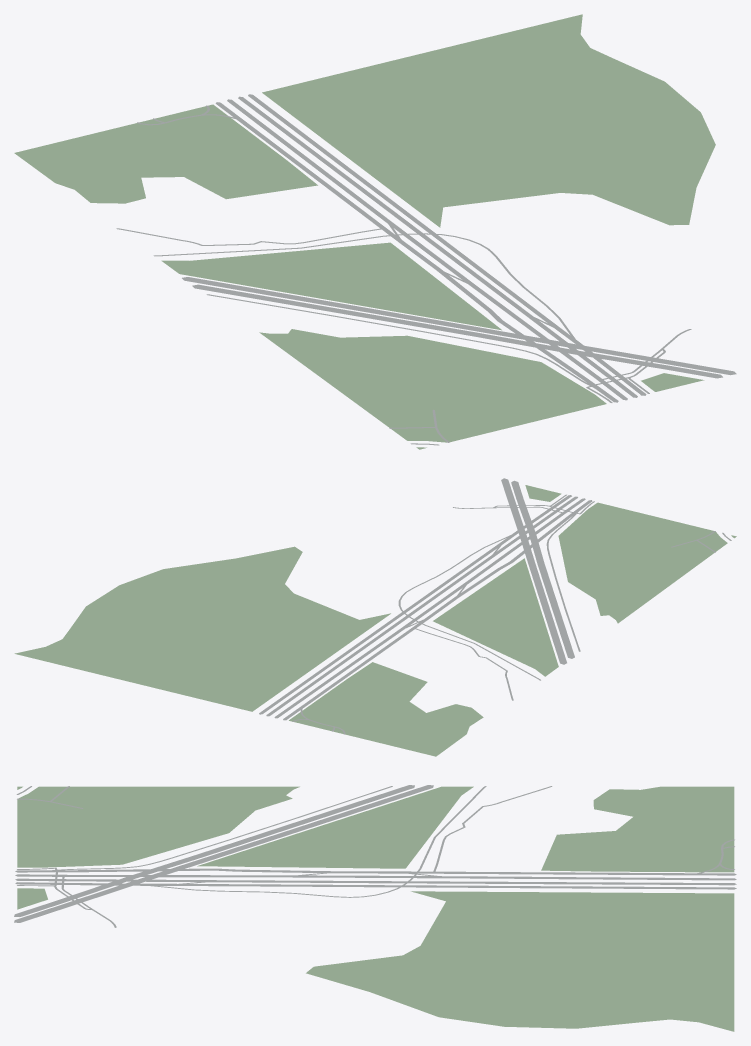
The model's file is -11_9-known-fine.glb.
The picture shows the model from 3 angles, top to bottom: view 1: azimuth 30°, elevation 25°; view 2: azimuth 150°, elevation 25°; view 3: azimuth 270°, elevation 25°; orthographic projection. The views are drawn at different scales.
Bounding box in the file's own units: 811 × 0.1 × 1003.
